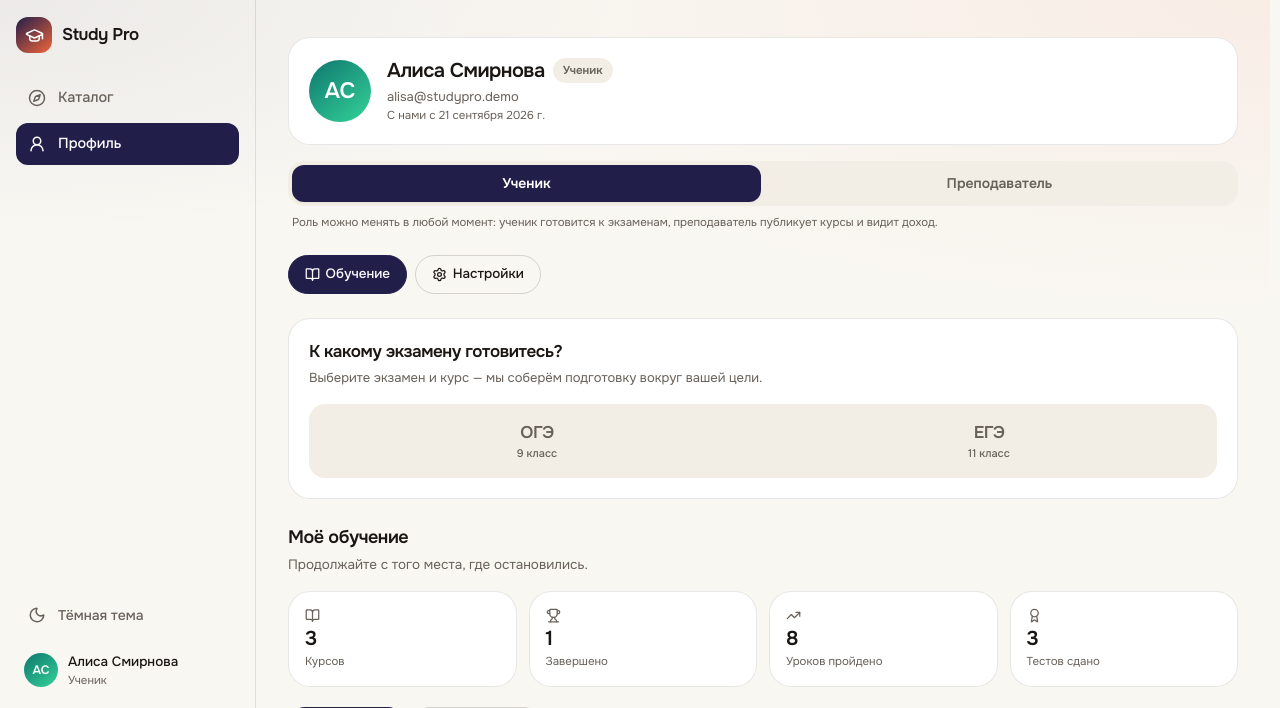
Test: student cabinet › shows learning progress and certificates
Check: the heading "Моё обучение" is shown, box [288,526,408,548]
Click the tab "Настройки" at (478, 274), box [415,255,541,294]
(page scrolled)
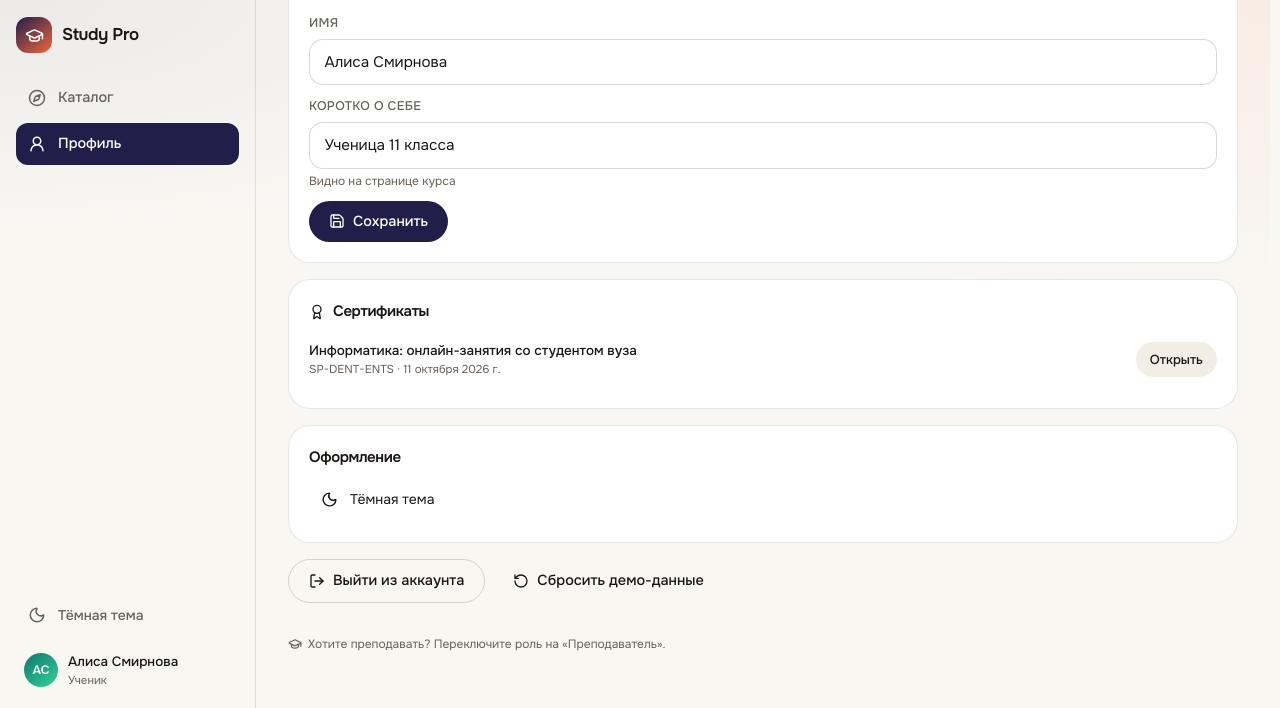
Check: the text "SP-DENT-ENTS" is shown, box [309,362,394,377]
